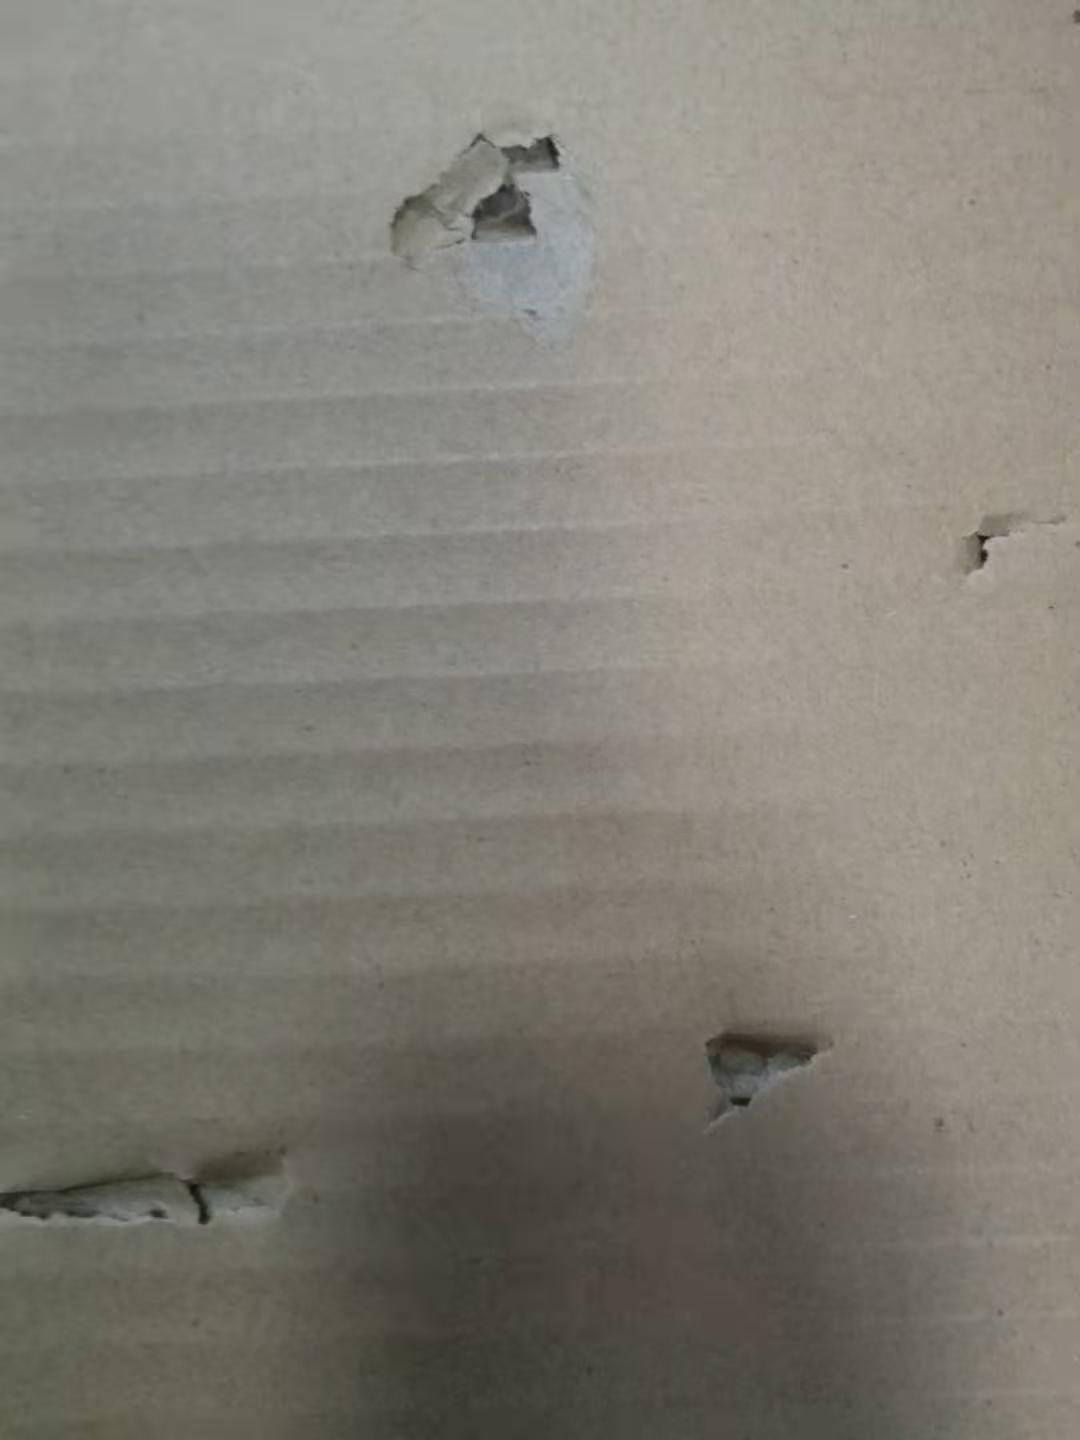defect: (363, 85, 648, 370), (3, 1104, 331, 1268), (670, 988, 860, 1150), (920, 475, 1080, 611)
